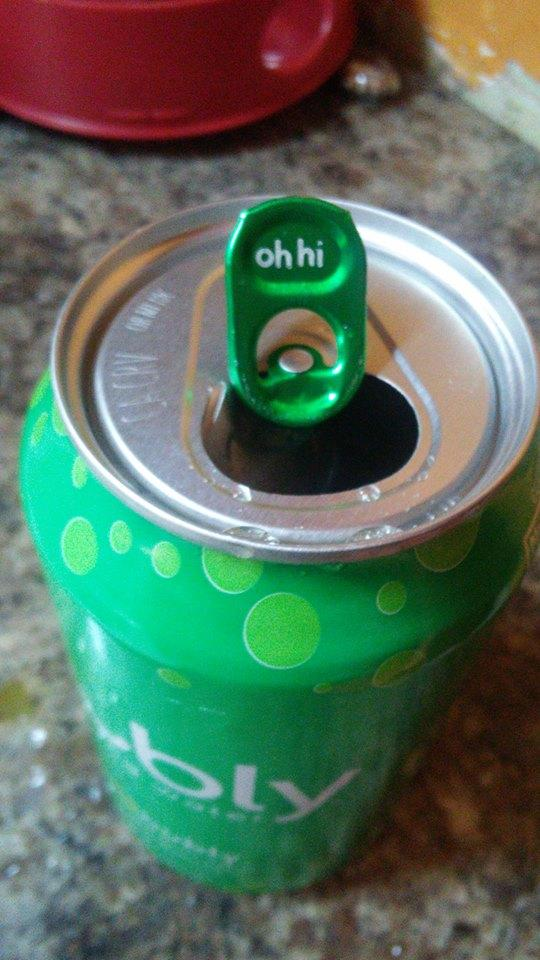metal: (19, 197, 538, 894)
